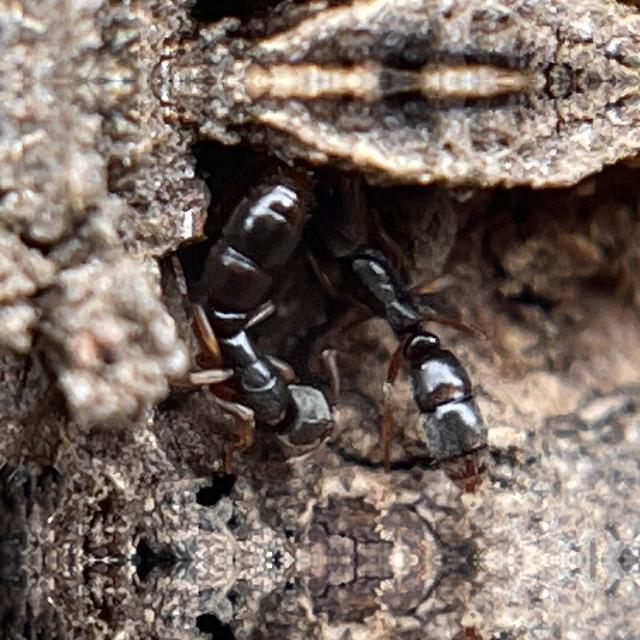Ponera: (286, 166, 532, 516), (179, 144, 367, 462)
